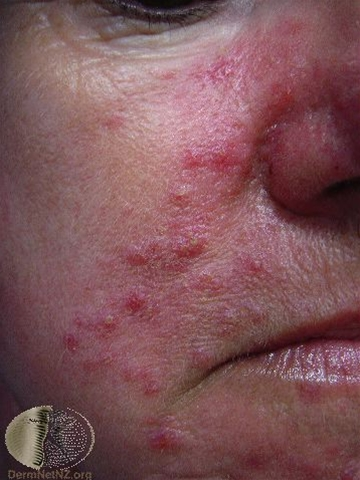bekas: (102, 116, 120, 130), (220, 309, 235, 323), (171, 220, 181, 231), (140, 369, 150, 378)
jerawat: (126, 248, 148, 267), (127, 293, 147, 313), (197, 270, 215, 289), (246, 451, 263, 470), (151, 433, 169, 449), (172, 256, 191, 271), (188, 150, 204, 167), (213, 152, 229, 168), (62, 336, 79, 351), (253, 305, 268, 321), (195, 349, 210, 364), (174, 189, 190, 203), (160, 258, 173, 271), (148, 382, 161, 395), (124, 203, 139, 214)
pus: (104, 314, 114, 328), (251, 259, 265, 269), (189, 238, 200, 248), (185, 230, 192, 240)
